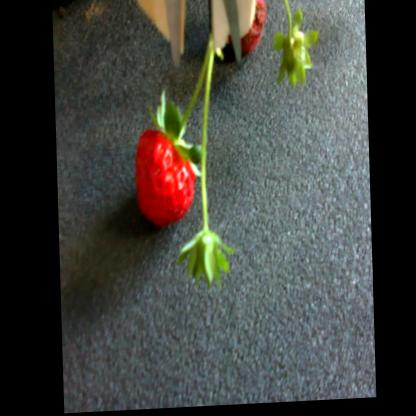ripe: (133, 131, 198, 232)
